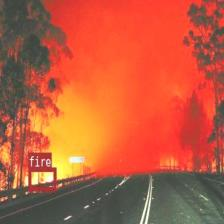fire: (28, 167, 56, 191)
